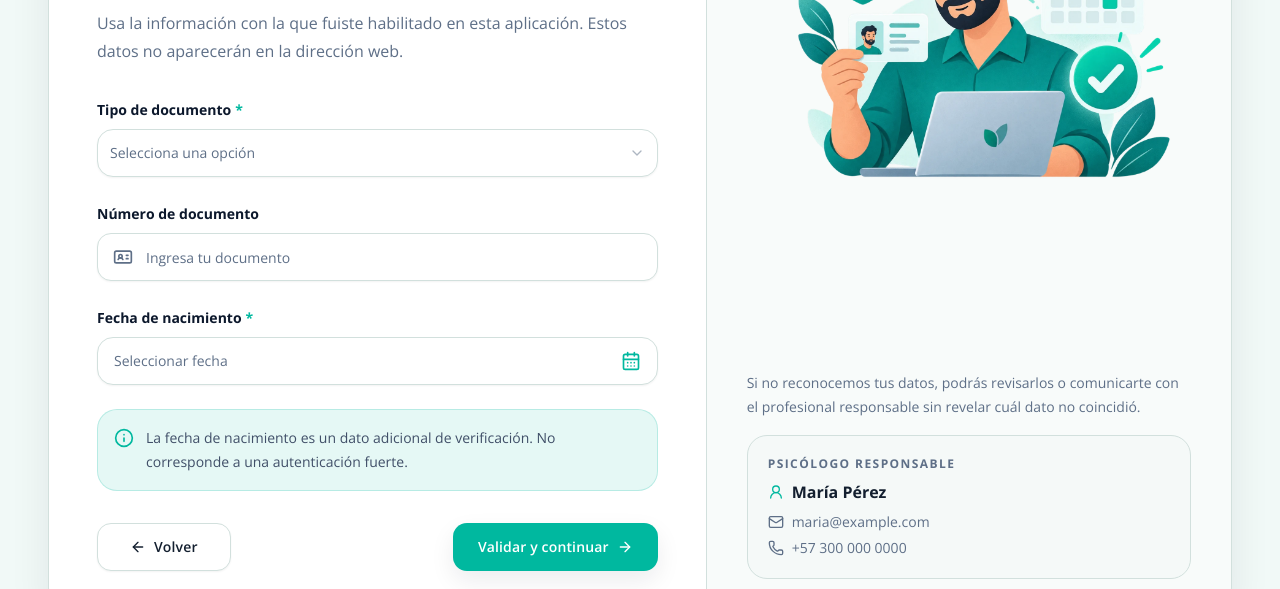
Test: flujo público WEB_DIRECT › valida campos obligatorios antes de entregar la identificación
(page scrolled)
Click the button "Validar y continuar" at (555, 547), box x1=453 y1=523 x2=658 y2=571
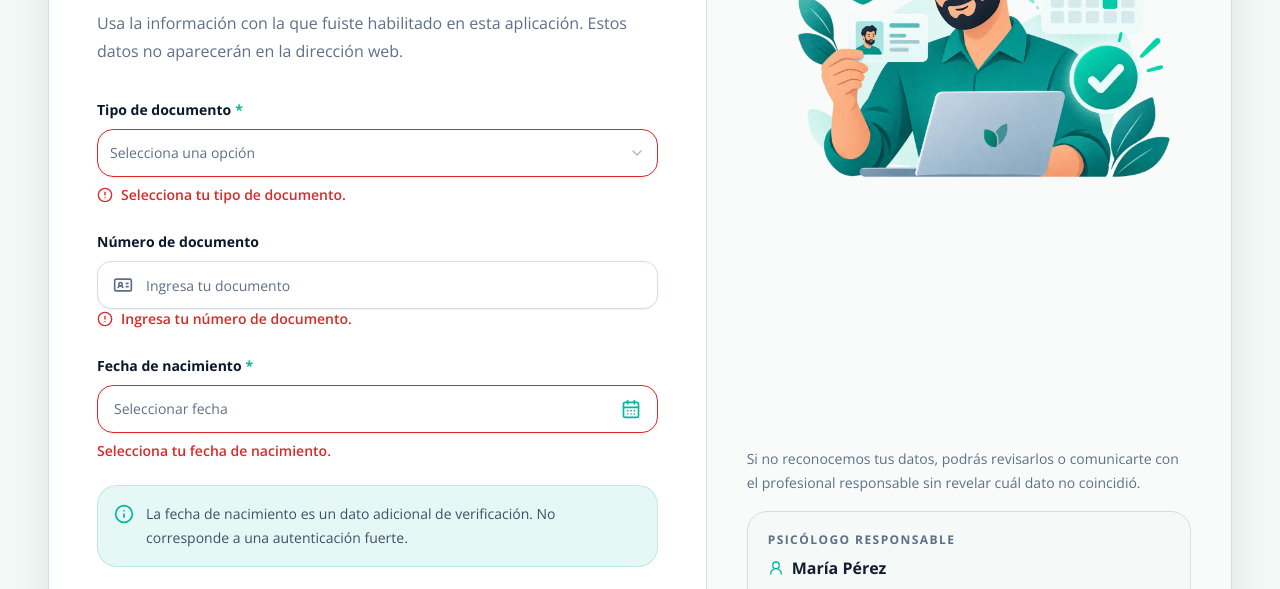
Expected: the text "Selecciona tu tipo de documento." is shown, x1=97 y1=185 x2=346 y2=204
Expected: the text "Ingresa tu número de documento." is shown, x1=97 y1=309 x2=352 y2=328
Expected: the text "Selecciona tu fecha de nacimiento." is shown, x1=97 y1=441 x2=331 y2=460
